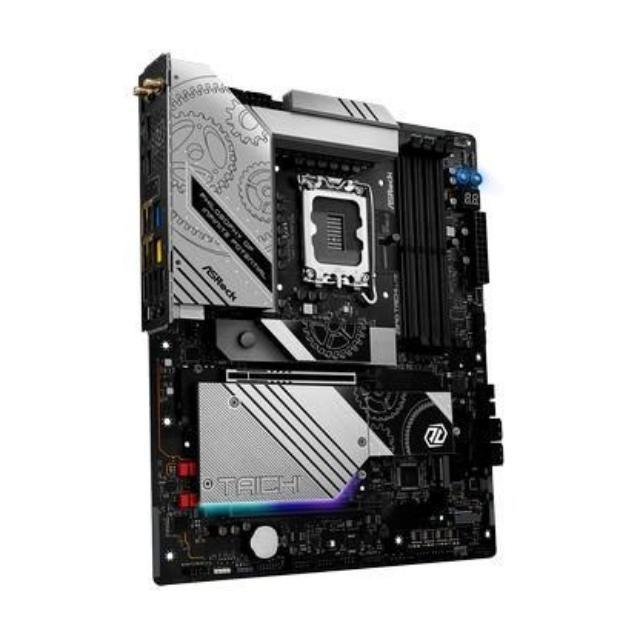Mainboard: (124, 48, 502, 592)
